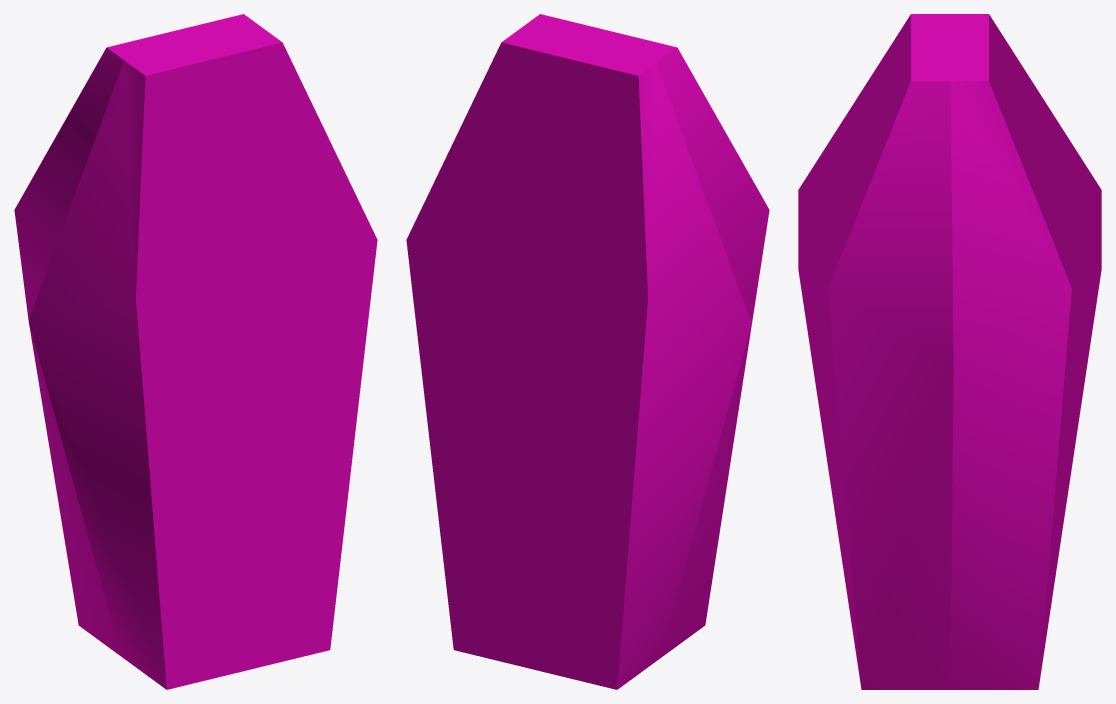
The model's file is Small_Crystal_7_LOD.fbx.
3 renders of one model, left to right at view 1: azimuth 30°, elevation 25°; view 2: azimuth 150°, elevation 25°; view 3: azimuth 270°, elevation 25°, orthographic.
Visible parts, largest first — view 1: pCube14; view 2: pCube14; view 3: pCube14.
Part boxes in pixels (x1,y1,x2,y2): pCube14: (14, 14, 377, 689); pCube14: (406, 14, 769, 689); pCube14: (798, 14, 1101, 689).
Size of the model in its own units: 2.67 by 4.58 by 2.11.
